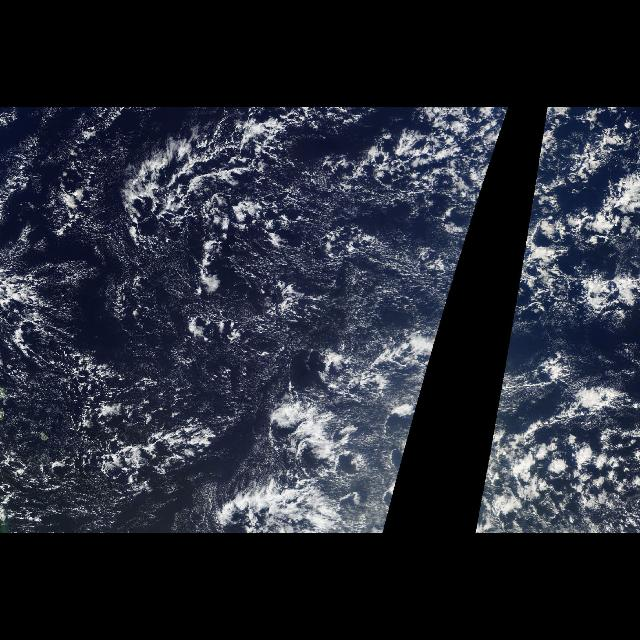Fish: (116, 118, 354, 194)
Gravel: (4, 110, 430, 532)
